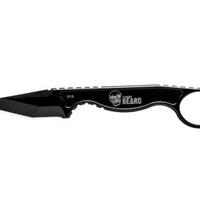knife: (1, 82, 200, 127)
